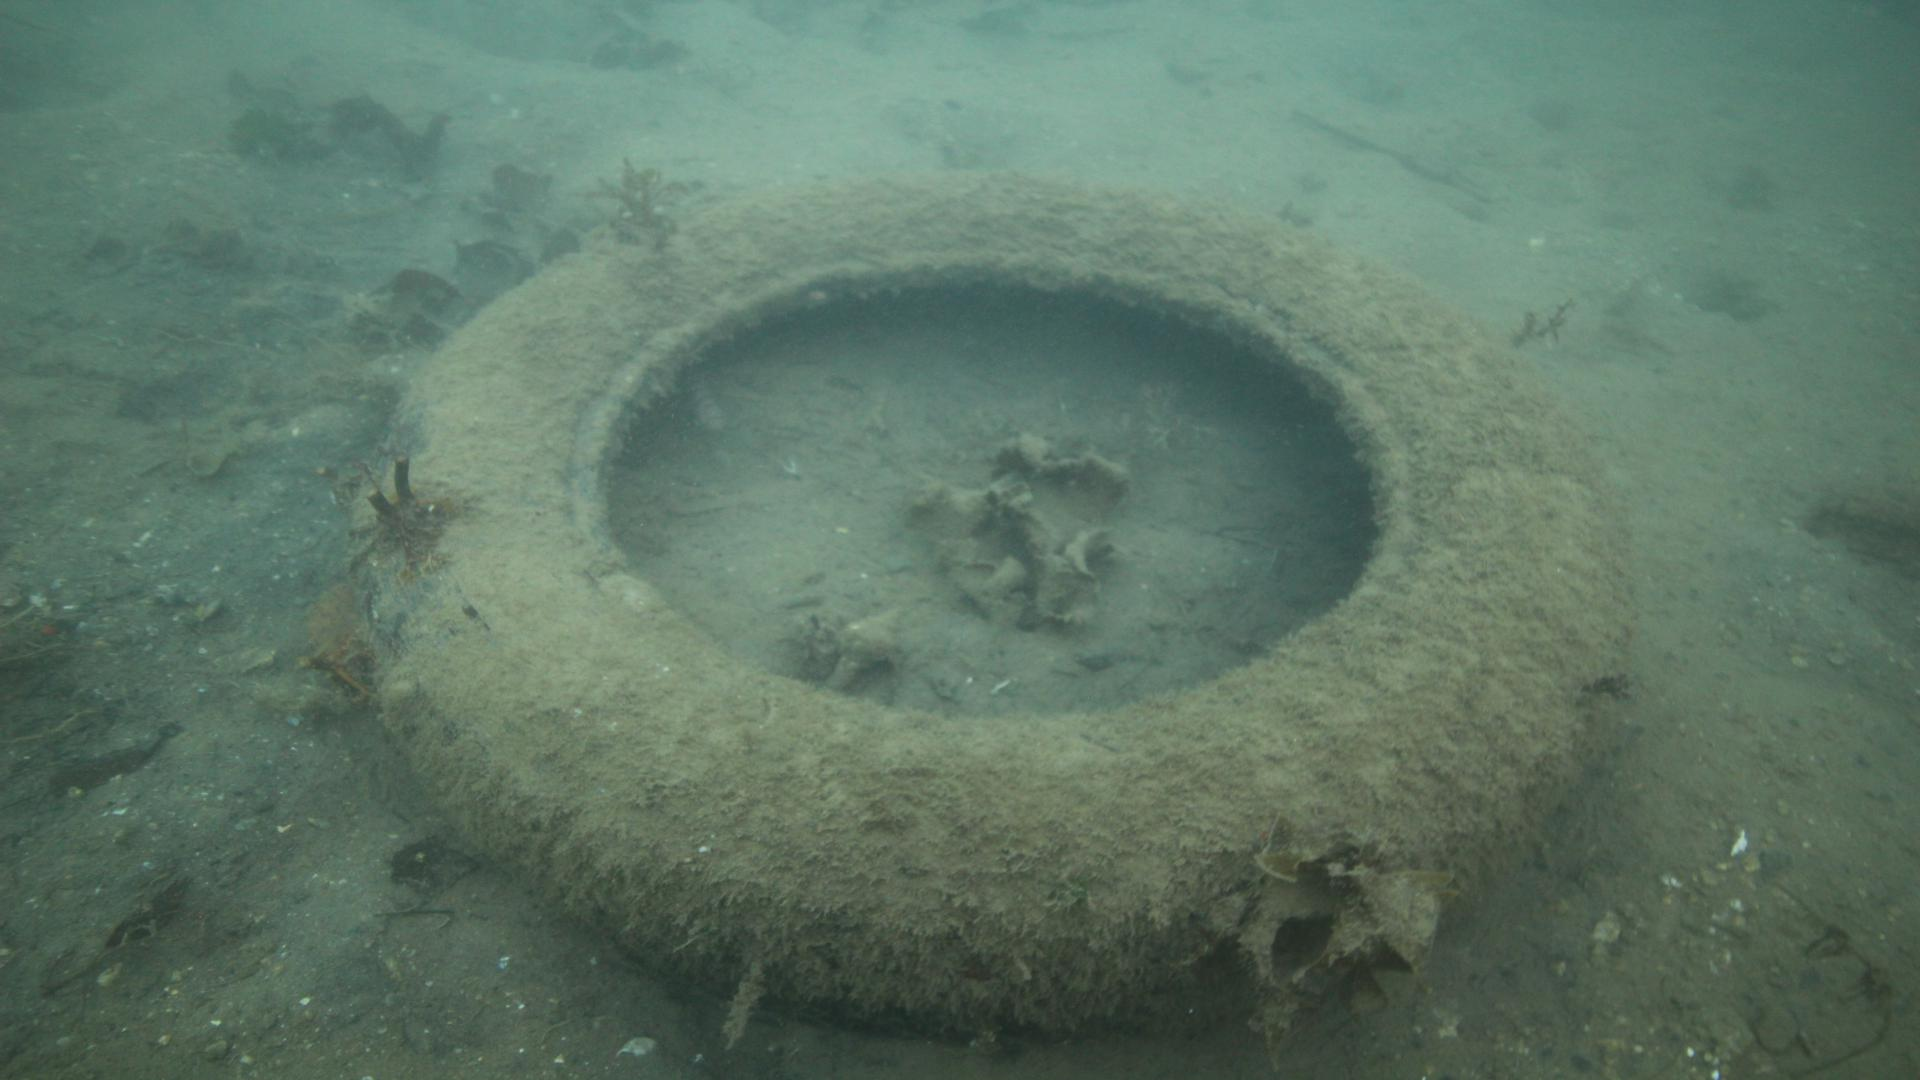tire: (343, 167, 1633, 1036)
